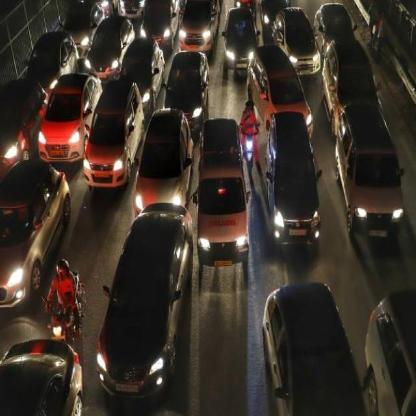priority: (202, 124, 246, 278), (208, 206, 236, 238)
